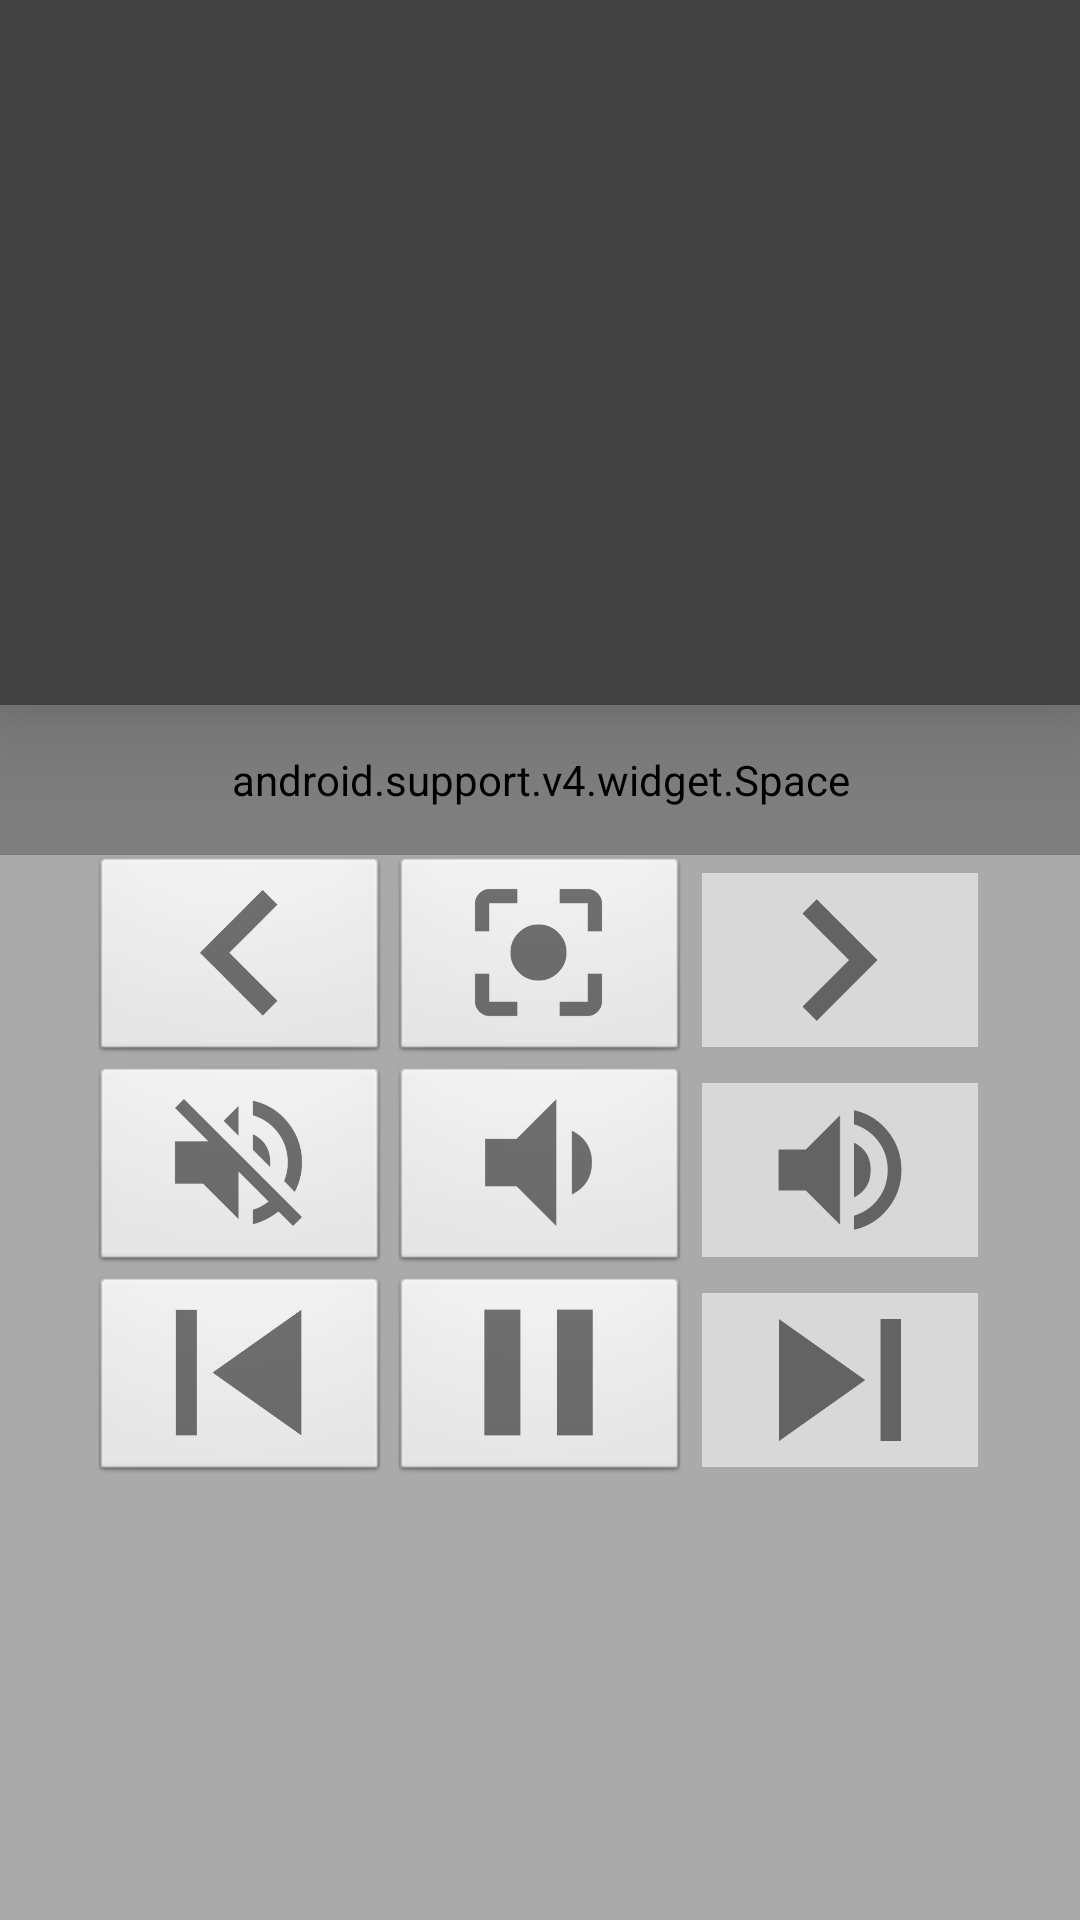

Screen size 1080 x 1920. Icon name, then its box in pixels as (x1, y1, x2, y2):
center focus strong: (399, 859, 680, 1050)
keyboard arrow left: (99, 859, 380, 1050)
keyboard arrow right: (702, 873, 978, 1047)
pause: (399, 1279, 680, 1470)
skip next: (702, 1293, 978, 1467)
skip previous: (99, 1279, 380, 1470)
volume down: (399, 1069, 680, 1260)
volume off: (99, 1069, 380, 1260)
volume up: (702, 1083, 978, 1257)
